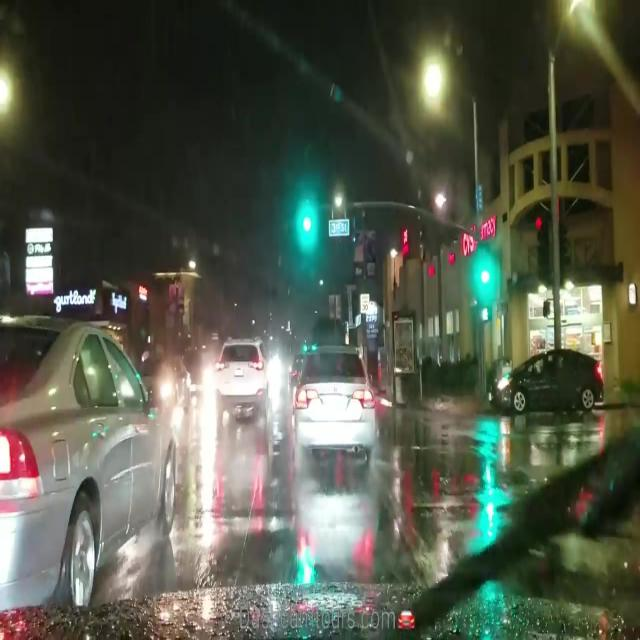Car: (9, 308, 174, 624), (293, 349, 376, 463), (494, 347, 604, 416), (213, 341, 266, 417)
